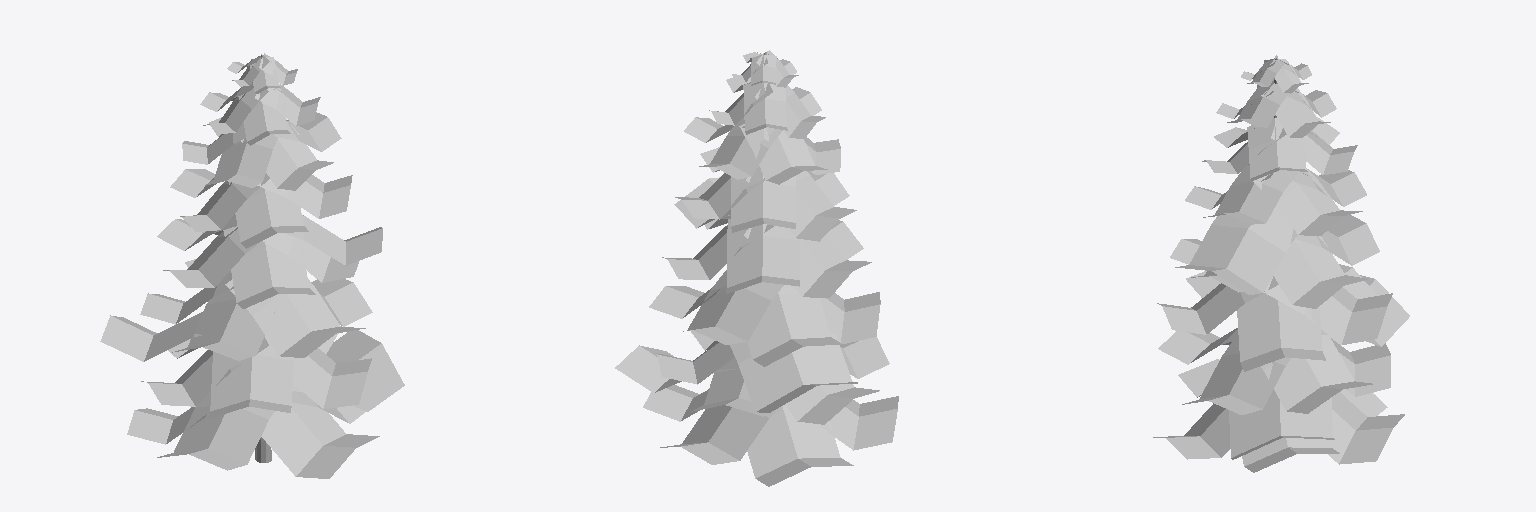
Rendered from Pine_5_groups.obj.
The picture shows the model from 3 angles: view 1: azimuth 30°, elevation 25°; view 2: azimuth 150°, elevation 25°; view 3: azimuth 270°, elevation 25°; orthographic projection.
Visible parts, largest first — view 1: Pine_5; view 2: Pine_5; view 3: Pine_5.
Boxes of the visible parts, x1=… form: Pine_5: x1=100, y1=53, x2=404, y2=478; Pine_5: x1=615, y1=50, x2=898, y2=486; Pine_5: x1=1153, y1=55, x2=1409, y2=472.
Bounding box in the file's own units: 6.8 × 10.31 × 6.04.